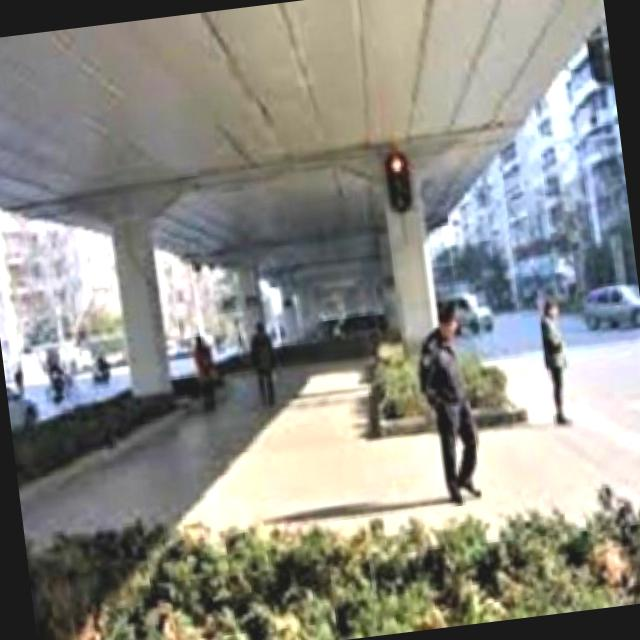Person: (408, 298, 512, 511), (529, 292, 587, 433), (240, 312, 290, 416), (186, 324, 231, 418)
